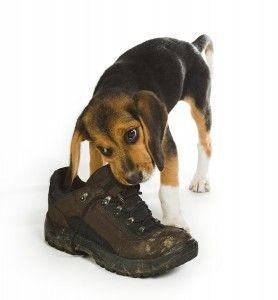puppy-dog: (70, 31, 215, 228)
